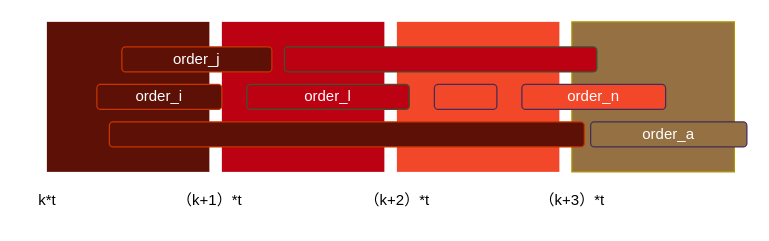
Image size: 769x241. Some labels were removed from this diagram. Each missing label, with the centre of its shape:
"order_b" goes at (346,134).
"order_k" goes at (440,59).
"order_m" goes at (465,96).
